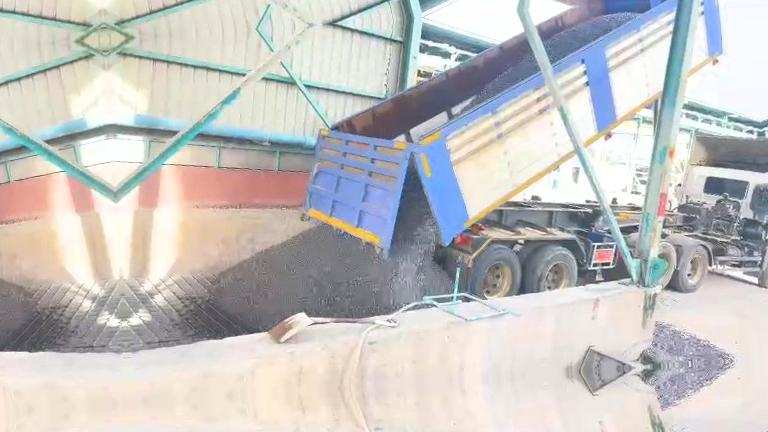gravel: (212, 166, 452, 330), (544, 12, 638, 62), (463, 53, 539, 111), (641, 322, 735, 364)
